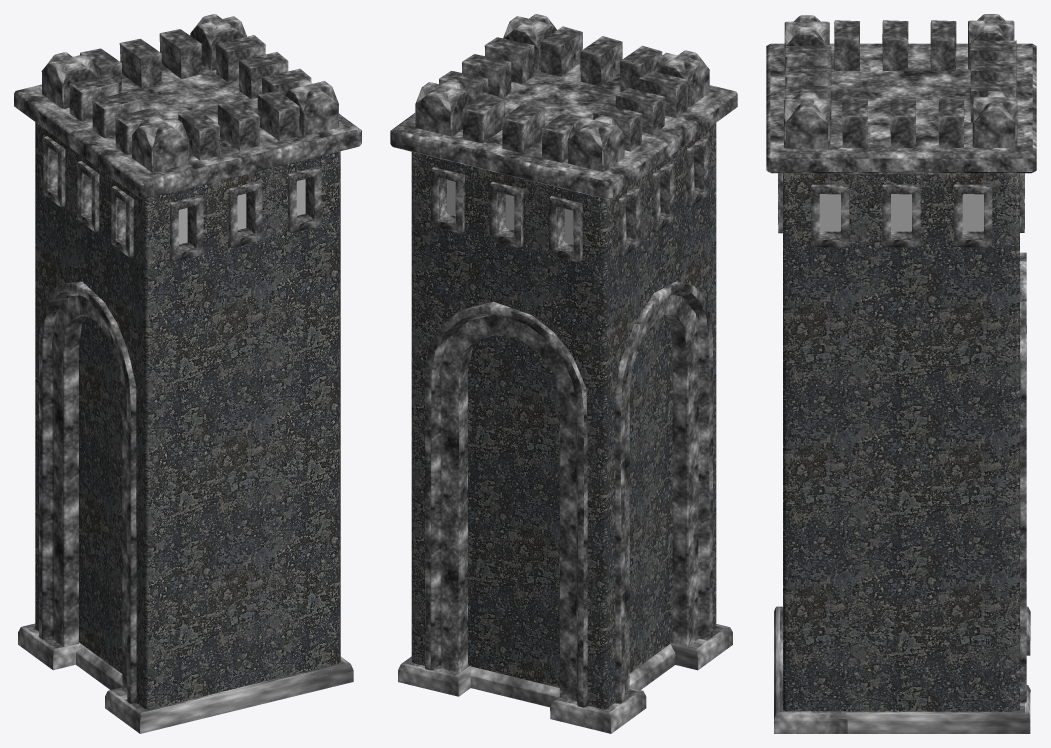
File: SM_wall_tower_04.fbx
3 views of the same model, side by side, from view 1: azimuth 30°, elevation 25°; view 2: azimuth 150°, elevation 25°; view 3: azimuth 270°, elevation 25° (orthographic). The views are drawn at different scales.
Parts seen in each view (by area): view 1: SM_wall_tower_04_LOD0; view 2: SM_wall_tower_04_LOD0; view 3: SM_wall_tower_04_LOD0.
Part boxes in pixels (left/top/right/bottom): SM_wall_tower_04_LOD0: left=14, top=14, right=361, bottom=733; SM_wall_tower_04_LOD0: left=390, top=14, right=737, bottom=733; SM_wall_tower_04_LOD0: left=766, top=14, right=1036, bottom=733.
Size of the model in its own units: 510 by 510 by 1289.
